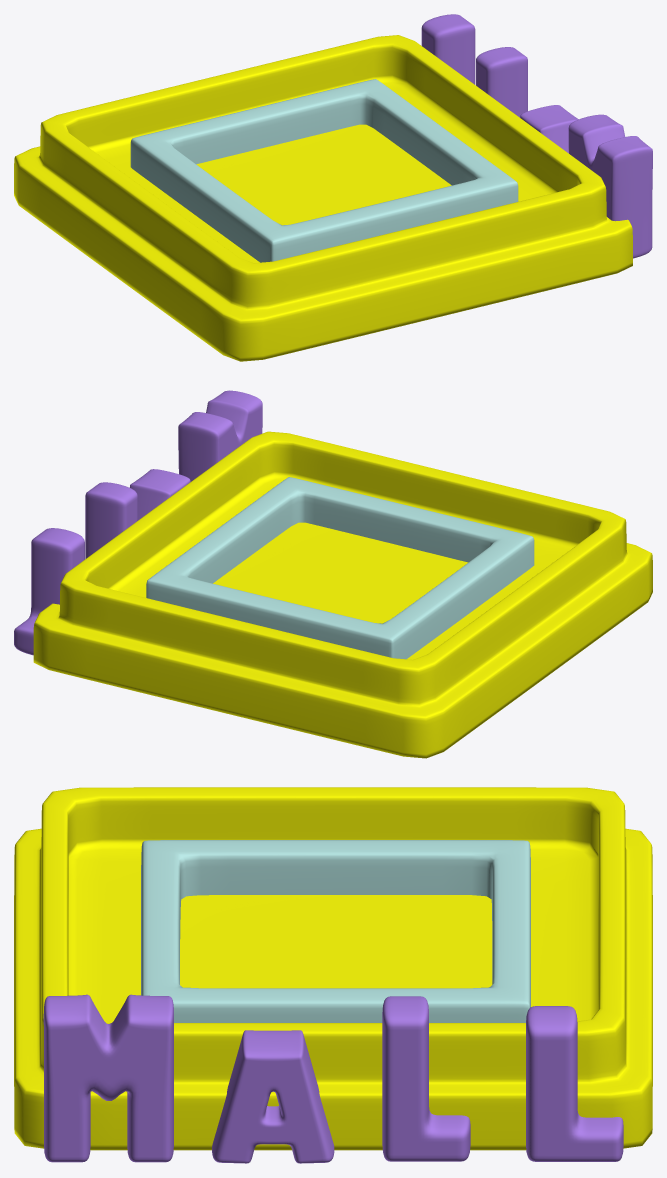
3 views of the same model, one above another, from view 1: azimuth 30°, elevation 25°; view 2: azimuth 150°, elevation 25°; view 3: azimuth 270°, elevation 25° (orthographic). The views are drawn at different scales.
Parts seen in each view (by area): view 1: polySurface1340; view 2: polySurface1340; view 3: polySurface1340.
Boxes of the visible parts, x1=… form: polySurface1340: x1=14, y1=14, x2=652, y2=361; polySurface1340: x1=14, y1=390, x2=652, y2=758; polySurface1340: x1=14, y1=787, x2=652, y2=1163.
Size of the model in its own units: 1.05 by 0.2639 by 0.9997.
